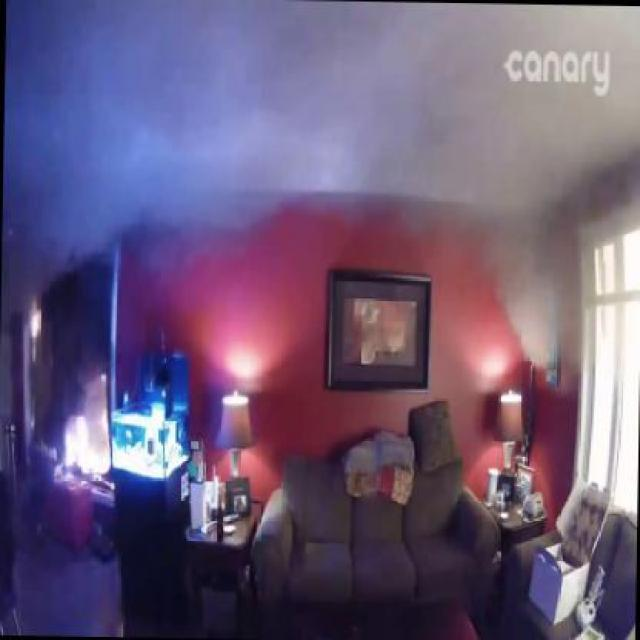fire: (0, 2, 369, 302)
